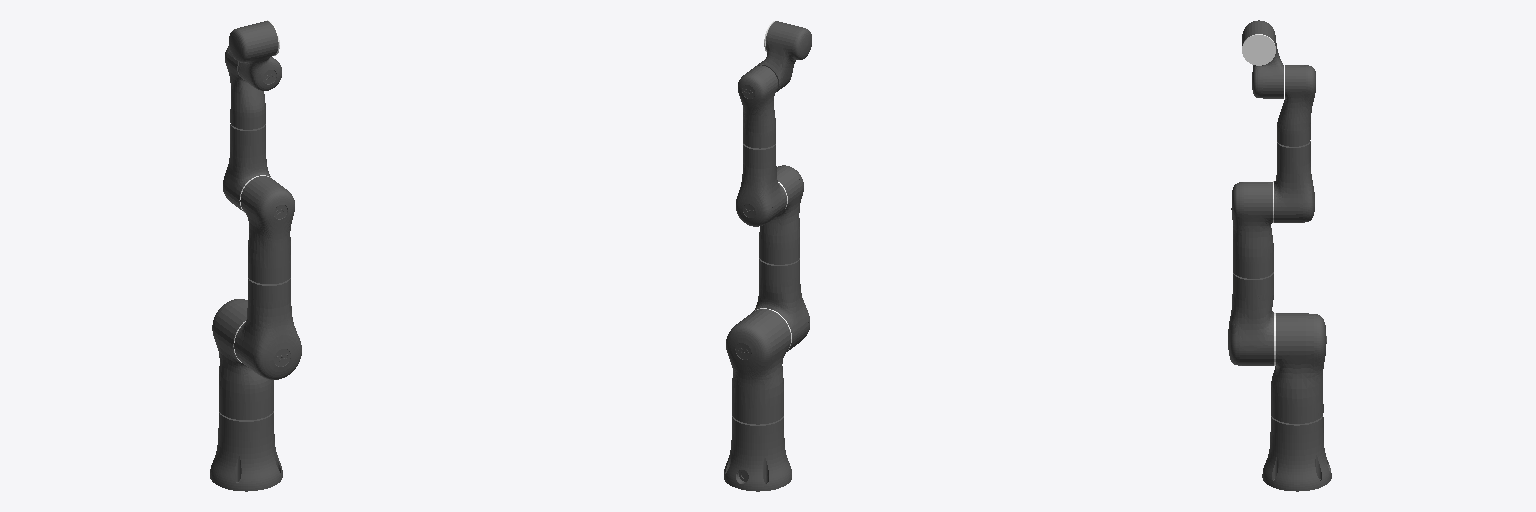
The robot description file, URDF, robot "rizon10s":
<?xml version="1.0"?>
<!-- ======================================================================== -->
<!-- | Flexiv Rizon 10s (with blurred dynamic parameters)                   | -->
<!-- ======================================================================== -->
<robot name="rizon10s">


  <!--<compiler meshdir="./meshes/" strippath="false" balanceinertia="true" discardvisual="false"/>-->


  <mujoco>
    <compiler 
    meshdir="meshes" 
    strippath="false"
    balanceinertia="true" 
    discardvisual="false"
    convexhull="true" />
  </mujoco>




  <joint name="joint1" type="revolute">
    <parent link="base_link" />
    <child link="link1" />
    <origin rpy="0.0 0.0 -3.141592653589793" xyz="0.0 0.0 0.21" />
    <axis xyz="0 0 1" />
    <limit effort="261" lower="-2.7925" upper="2.7925" velocity="1.7453" />
  </joint>
  <joint name="joint2" type="revolute">
    <parent link="link1" />
    <child link="link2" />
    <origin rpy="0.0 0.0 0.0" xyz="0.0 0.0675 0.24" />
    <axis xyz="0 1 0" />
    <limit effort="261" lower="-2.6704" upper="2.6704" velocity="1.7453" />
  </joint>
  <joint name="joint3" type="revolute">
    <parent link="link2" />
    <child link="link3" />
    <origin rpy="0.0 0.0 0.0" xyz="0.0 0.0625 0.2275" />
    <axis xyz="0 0 1" />
    <limit effort="123" lower="-2.7925" upper="2.7925" velocity="2.0944" />
  </joint>
  <joint name="joint4" type="revolute">
    <parent link="link3" />
    <child link="link4" />
    <origin rpy="0.0 0.0 -3.141592653589793" xyz="0.0 -0.0625 0.2225" />
    <axis xyz="0 1 0" />
    <limit effort="123" lower="-2.7053" upper="2.7053" velocity="2.0944" />
  </joint>
  <joint name="joint5" type="revolute">
    <parent link="link4" />
    <child link="link5" />
    <origin rpy="0.0 0.0 -3.141592653589793" xyz="0.0 0.0575 0.205" />
    <axis xyz="0 0 1" />
    <limit effort="57" lower="-2.9671" upper="2.9671" velocity="3.8397" />
  </joint>
  <joint name="joint6" type="revolute">
    <parent link="link5" />
    <child link="link6" />
    <origin rpy="0.0 0.0 0.0" xyz="0.0 0.03 0.19" />
    <axis xyz="0 1 0" />
    <limit effort="57" lower="-1.3963" upper="4.5379" velocity="3.8397" />
  </joint>
  <joint name="joint7" type="revolute">
    <parent link="link6" />
    <child link="link7" />
    <origin rpy="0.0 -1.5707963478683205 0.0" xyz="-0.015 0.073 0.11" />
    <axis xyz="0 0 1" />
    <limit effort="57" lower="-2.9671" upper="2.9671" velocity="3.8397" />
  </joint>
  <joint name="link7_to_flange" type="fixed">
    <parent link="link7" />
    <child link="flange" />
    <origin rpy="0.0 0.0 -3.141592653589793" xyz="0.0 0.0 0.124" />
  </joint>

  <link name="base_link">
    <inertial>
      <mass value="9.2" />
      <origin rpy="0 0 0" xyz="0.0 -0.0 0.13" />
      <inertia ixx="0.08" ixy="0.0" ixz="-0.0" iyy="0.08" iyz="0.0" izz="0.04" />
    </inertial>
    <visual name="shell-0">
      <origin rpy="0 0 0" xyz="0 0 0" />
      <geometry>
        <mesh filename="rizon10s/visual/v_link0.obj" />
      </geometry>
      <material name="rizon_dark_grey" />
    </visual>
    <collision name="hull-0">
      <origin rpy="0 0 0" xyz="0 0 0" />
      <geometry>
        <mesh filename="rizon10s/collision/c_link0.stl" />
      </geometry>
    </collision>
  </link>
  <link name="link1">
    <inertial>
      <mass value="9.7" />
      <origin rpy="0 0 0" xyz="0.0 0.03 0.16" />
      <inertia ixx="0.18" ixy="0.0" ixz="0.0" iyy="0.17" iyz="0.02" izz="0.04" />
    </inertial>
    <visual name="shell-1">
      <origin rpy="0 0 0" xyz="0 0 0" />
      <geometry>
        <mesh filename="rizon10s/visual/v_link1.obj" />
      </geometry>
      <material name="rizon_dark_grey" />
    </visual>
    <visual name="ring-1">
      <origin rpy="0 0 0" xyz="0 0 -0.0025" />
      <geometry>
        <mesh filename="rizon10s/visual/v_ring_s1.obj"  />
      </geometry>
      <material name="rizon_white" />
    </visual>
    <collision name="hull-1">
      <origin rpy="0 0 0" xyz="0 0 0" />
      <geometry>
        <mesh filename="rizon10s/collision/c_link1.stl" />
      </geometry>
    </collision>
  </link>
  <link name="link2">
    <inertial>
      <mass value="6.358" />
      <origin rpy="0 0 0" xyz="0.0 0.03 0.11" />
      <inertia ixx="0.1" ixy="0.0" ixz="0.0" iyy="0.08" iyz="0.02" izz="0.03" />
    </inertial>
    <visual name="shell-2">
      <origin rpy="0 0 0" xyz="0 0 0" />
      <geometry>
        <mesh filename="rizon10s/visual/v_link2.obj" />
      </geometry>
      <material name="rizon_dark_grey" />
    </visual>
    <visual name="ring-2">
      <origin rpy="1.5707963 0 0" xyz="0 -0.0025 0" />
      <geometry>
        <mesh filename="rizon10s/visual/v_ring_s2.obj"  />
      </geometry>
      <material name="rizon_white" />
    </visual>
    <collision name="hull-2">
      <origin rpy="0 0 0" xyz="0 0 0" />
      <geometry>
        <mesh filename="rizon10s/collision/c_link2.stl" />
      </geometry>
    </collision>
  </link>
  <link name="link3">
    <inertial>
      <mass value="5.089" />
      <origin rpy="0 0 0" xyz="0.0 -0.03 0.17" />
      <inertia ixx="0.04" ixy="-0.0" ixz="-0.0" iyy="0.03" iyz="-0.01" izz="0.01" />
    </inertial>
    <visual name="shell-3">
      <origin rpy="0 0 0" xyz="0 0 0" />
      <geometry>
        <mesh filename="rizon10s/visual/v_link3.obj" />
      </geometry>
      <material name="rizon_dark_grey" />
    </visual>
    <visual name="ring-3">
      <origin rpy="0 0 0" xyz="0 0 -0.0025" />
      <geometry>
        <mesh filename="rizon10s/visual/v_ring_s3.obj"  />
      </geometry>
      <material name="rizon_white" />
    </visual>
    <collision name="hull-3">
      <origin rpy="0 0 0" xyz="0 0 0" />
      <geometry>
        <mesh filename="rizon10s/collision/c_link3.stl" />
      </geometry>
    </collision>
  </link>
  <link name="link4">
    <inertial>
      <mass value="3.267" />
      <origin rpy="0 0 0" xyz="-0.0 0.05 0.1" />
      <inertia ixx="0.03" ixy="0.0" ixz="0.0" iyy="0.03" iyz="0.0" izz="0.01" />
    </inertial>
    <visual name="shell-4">
      <origin rpy="0 0 0" xyz="0 0 0" />
      <geometry>
        <mesh filename="rizon10s/visual/v_link4.obj" />
      </geometry>
      <material name="rizon_dark_grey" />
    </visual>
    <visual name="ring-4">
      <origin rpy="1.5707963 0 0" xyz="0 -0.0025 0" />
      <geometry>
        <mesh filename="rizon10s/visual/v_ring_s4.obj"  />
      </geometry>
      <material name="rizon_white" />
    </visual>
    <collision name="hull-4">
      <origin rpy="0 0 0" xyz="0 0 0" />
      <geometry>
        <mesh filename="rizon10s/collision/c_link4.stl" />
      </geometry>
    </collision>
  </link>
  <link name="link5">
    <inertial>
      <mass value="2.498" />
      <origin rpy="0 0 0" xyz="0.0 0.01 0.13" />
      <inertia ixx="0.01" ixy="0.0" ixz="0.0" iyy="0.01" iyz="0.0" izz="0.001" />
    </inertial>
    <visual name="shell-5">
      <origin rpy="0 0 0" xyz="0 0 0" />
      <geometry>
        <mesh filename="rizon10s/visual/v_link5.obj" />
      </geometry>
      <material name="rizon_dark_grey" />
    </visual>
    <visual name="ring-5">
      <origin rpy="0 0 0" xyz="0 0 -0.0025" />
      <geometry>
        <mesh filename="rizon10s/visual/v_ring_s5.obj"  />
      </geometry>
      <material name="rizon_white" />
    </visual>
    <collision name="hull-5">
      <origin rpy="0 0 0" xyz="0 0 0" />
      <geometry>
        <mesh filename="rizon10s/collision/c_link5.stl" />
      </geometry>
    </collision>
  </link>
  <link name="link6">
    <inertial>
      <mass value="2.340" />
      <origin rpy="0 0 0" xyz="0.02 0.06 0.07" />
      <inertia ixx="0.01" ixy="0.0" ixz="0.0" iyy="0.01" iyz="0.0" izz="0.001" />
    </inertial>
    <visual name="shell-6">
      <origin rpy="0 0 0" xyz="0 0 0" />
      <geometry>
        <mesh filename="rizon10s/visual/v_link6.obj" />
      </geometry>
      <material name="rizon_dark_grey" />
    </visual>
    <visual name="ring-6">
      <origin rpy="1.5707963 0 0" xyz="0 -0.0025 0" />
      <geometry>
        <mesh filename="rizon10s/visual/v_ring_s6.obj"  />
      </geometry>
      <material name="rizon_white" />
    </visual>
    <collision name="hull-6">
      <origin rpy="0 0 0" xyz="0 0 0" />
      <geometry>
        <mesh filename="rizon10s/collision/c_link6.stl" />
      </geometry>
    </collision>
  </link>
  <link name="link7">
    <inertial>
      <mass value="1.568" />
      <origin rpy="0 0 0" xyz="0.0 0.0 0.05" />
      <!--note: i changed inertia from 0.01 to 0.001 because mujoco simulation was unstable-->
      <inertia ixx="0.01" ixy="0.0" ixz="0.0" iyy="0.01" iyz="0.0" izz="0.01" />
    </inertial>
    <visual name="shell-7">
      <origin rpy="0 0 0" xyz="0 0 0" />
      <geometry>
        <mesh filename="rizon10s/visual/v_link7.obj" />
      </geometry>
      <material name="rizon_dark_grey" />
    </visual>
    <visual name="ring-7">
      <origin rpy="0 0 0" xyz="0 0 -0.0025" />
      <geometry>
        <mesh filename="rizon10s/visual/v_ring_s7.obj"  />
      </geometry>
      <material name="rizon_white" />
    </visual>
    <collision name="hull-7">
      <origin rpy="0 0 0" xyz="0 0 0" />
      <geometry>
        <mesh filename="rizon10s/collision/c_link7.stl" />
      </geometry>
    </collision>
  </link>
  <link name="flange" >
   <inertial>
      <mass value="1.209" />
      <origin rpy="0 0 0" xyz="0.0 0.0 0.057" />
      <inertia ixx="0.03" ixy="0.0" ixz="0.0" iyy="0.03" iyz="0.0" izz="0.01" />
    </inertial>
  </link>

  <link name="tcp" />

  <joint name="flange_to_tcp" type="fixed">
    <parent link="flange" />
    <child link="tcp" />
    <origin rpy="0.0 0.0 0.0" xyz="0.0 0.0 0.2" />
  </joint>





  <material name="rizon_light_grey">
    <color rgba="0.7 0.7 0.7 1.0" />
  </material>
  <material name="rizon_dark_grey">
    <color rgba="0.4 0.4 0.4 1.0" />
  </material>
  <material name="rizon_white">
    <color rgba="1.0 1.0 1.0 1.0" />
  </material>
</robot>

--- What the picture shows (computed from the rendered views, not written in the file) ---
3 views of the same robot in one strip: view 1: azimuth 30°, elevation 25°; view 2: azimuth 150°, elevation 25°; view 3: azimuth 270°, elevation 25° (orthographic).
Robot: rizon10s — 10 links, 9 joints (7 revolute, 2 fixed); root link base_link; default pose: all joints at 0.
Visible links, largest first — view 1: link2, link3, base_link, link1, link6, link4, link5; view 2: link1, base_link, link4, link2, link3, link5, link6; view 3: link1, base_link, link2, link3, link4, link5, link6, link7.
Boxes of the visible links, x1,y1,x2,y2 form: link2: (233, 278, 301, 379); link3: (240, 176, 294, 283); base_link: (210, 411, 282, 491); link1: (212, 299, 273, 419); link6: (229, 21, 281, 90); link4: (223, 124, 270, 212); link5: (225, 46, 265, 129); link1: (726, 309, 790, 424); base_link: (724, 416, 791, 491); link4: (736, 143, 787, 226); link2: (753, 258, 809, 351); link3: (759, 165, 803, 264); link5: (738, 65, 777, 148); link6: (755, 21, 811, 91); link1: (1271, 313, 1326, 423); base_link: (1262, 416, 1331, 491); link2: (1228, 272, 1275, 365); link3: (1231, 182, 1273, 278); link4: (1273, 141, 1314, 222); link5: (1277, 65, 1315, 146); link6: (1242, 20, 1283, 98); link7: (1242, 34, 1275, 65).
Size in the robot's own frame: 0.2085 by 0.3073 by 1.46 metres.
Meshes: 15 distinct files referenced, 10 mesh visuals loaded (10 OBJ); not drawn: 5 (reference not matched to a file when rendering).